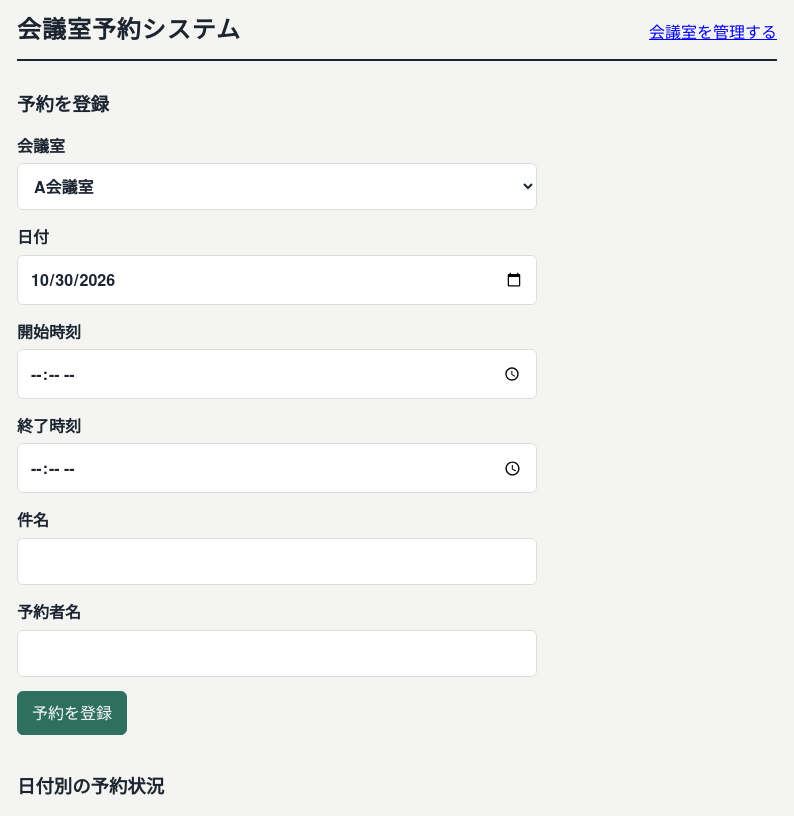
Test: ReservationRegistration › 予約登録APIのエラーを表示する
The width and height of the screenshot is (794, 816).
expect the dropdown labelled "会議室" is shown: met, box [17,163,537,210]
Type "10:00" into the time field labelled "開始時刻" at (277, 374), box [17,349,537,399]
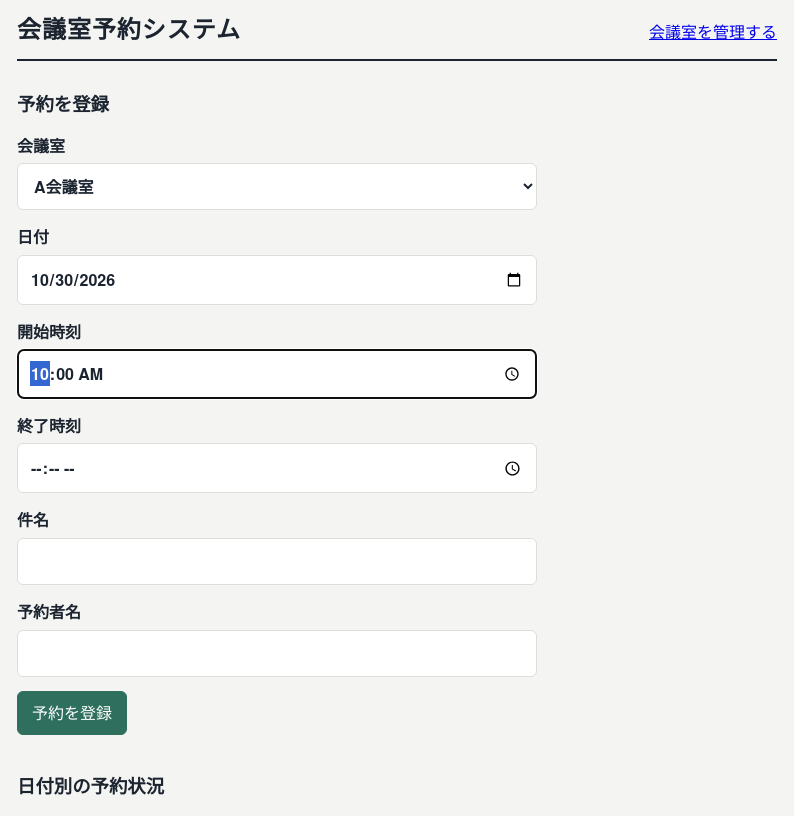
Type "11:00" into the time field labelled "終了時刻" at (277, 468), box [17,443,537,493]
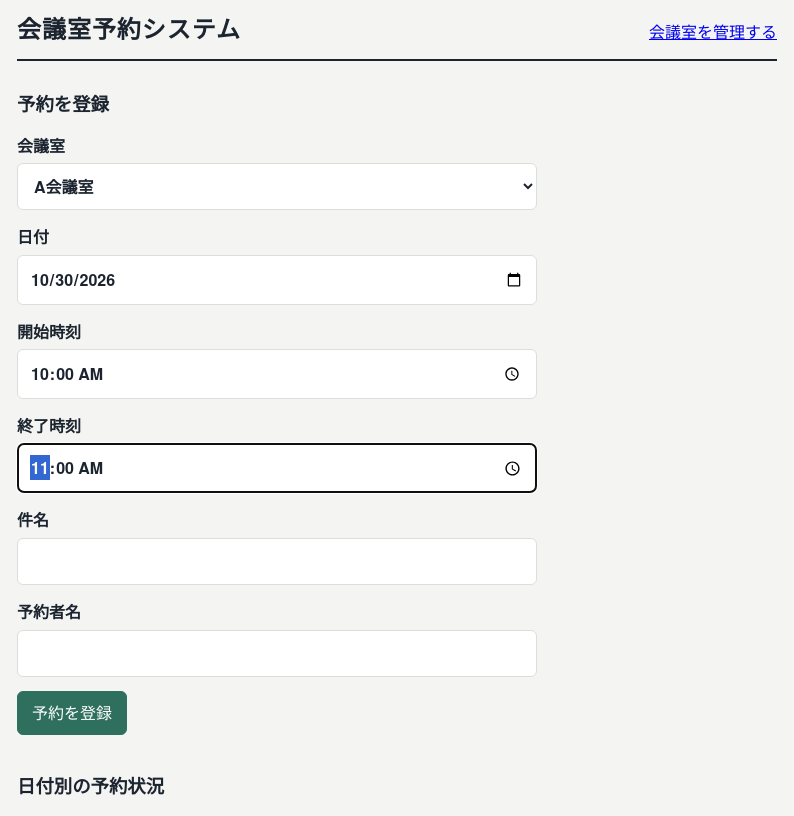
Type "定例会議" into the field labelled "件名" at (277, 561), box [17,538,537,585]
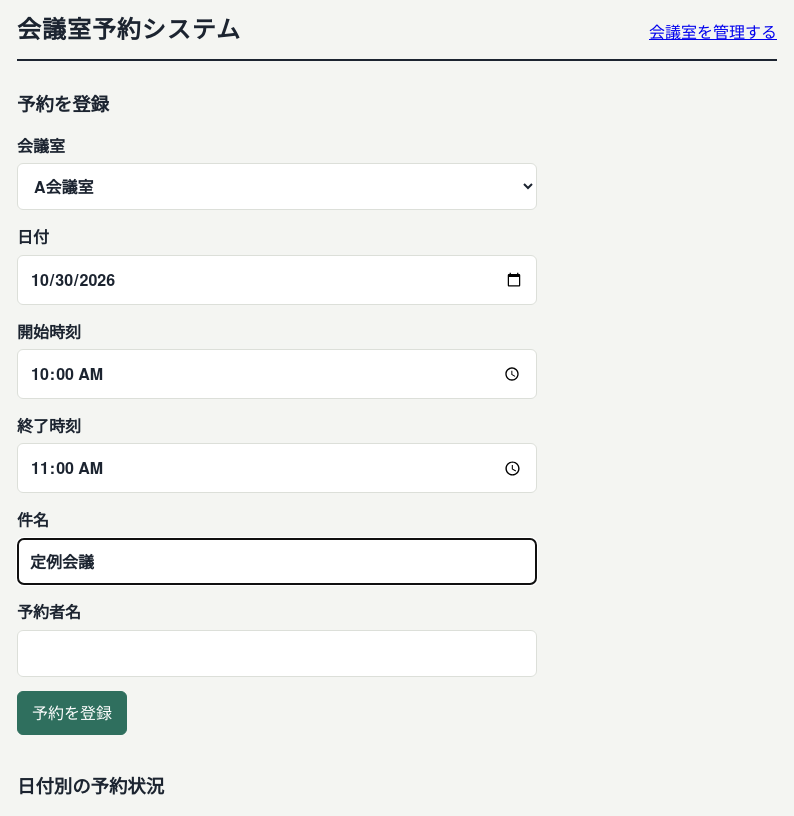
Type "山田" into the field labelled "予約者名" at (277, 654), box [17,630,537,677]
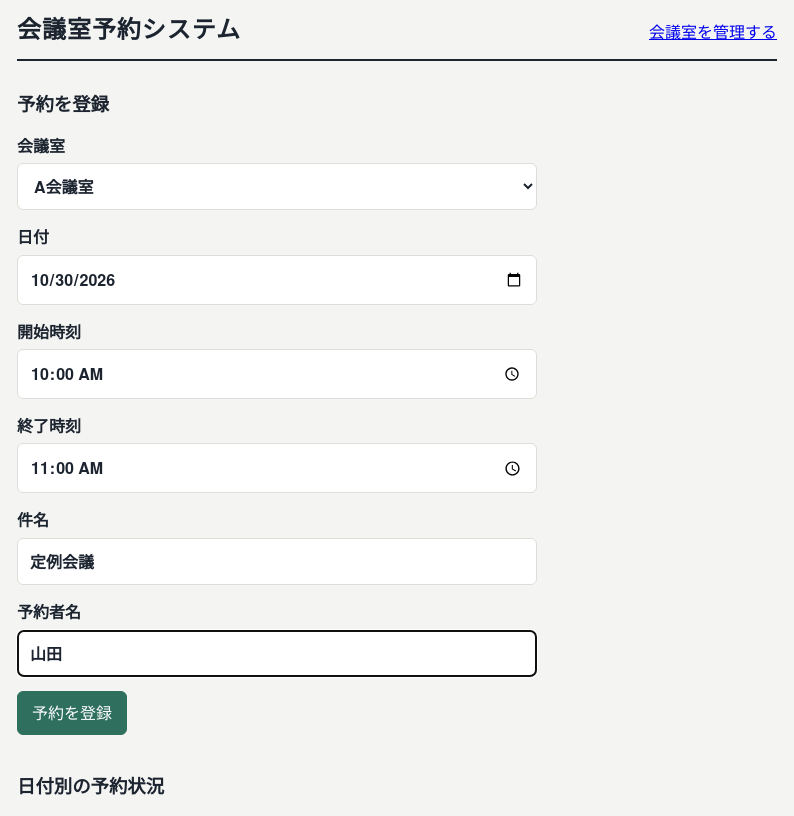
Click the button "予約を登録" at (72, 713), box [17,691,127,735]
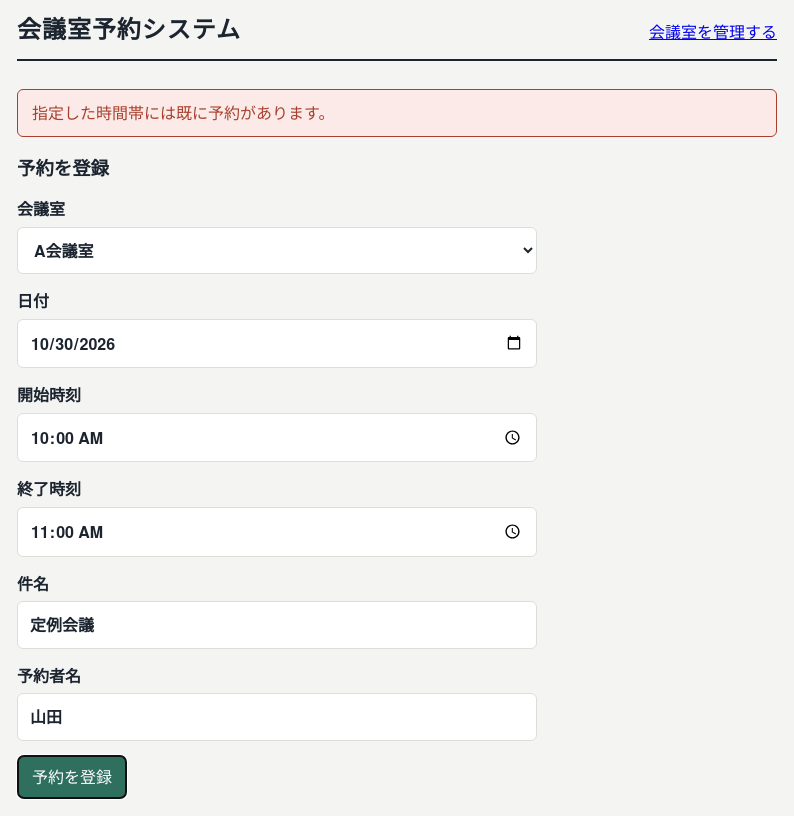
expect the message reads "指定した時間帯には既に予約があります。": met, box [32,101,334,124]
